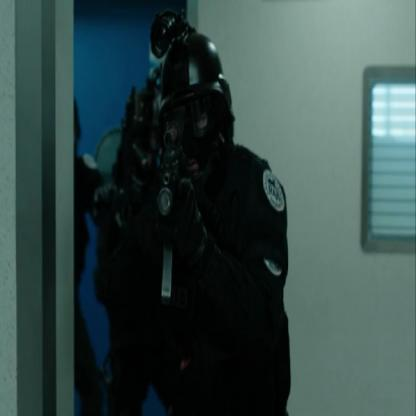Gun: (134, 102, 196, 318)
